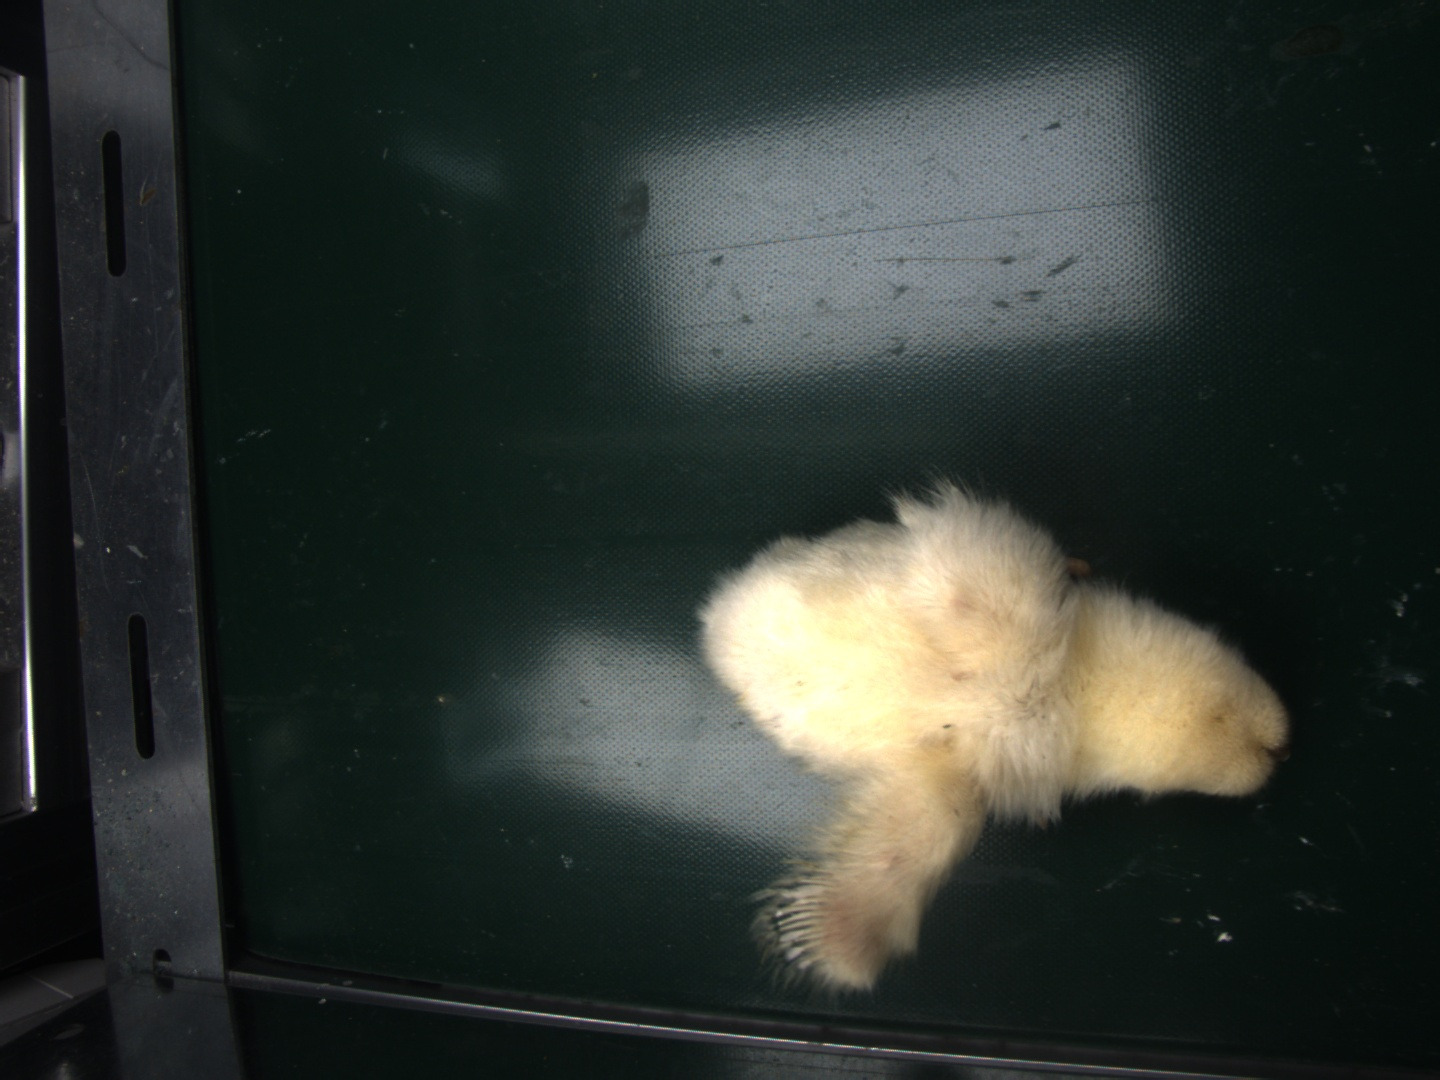male: (776, 874, 833, 971)
